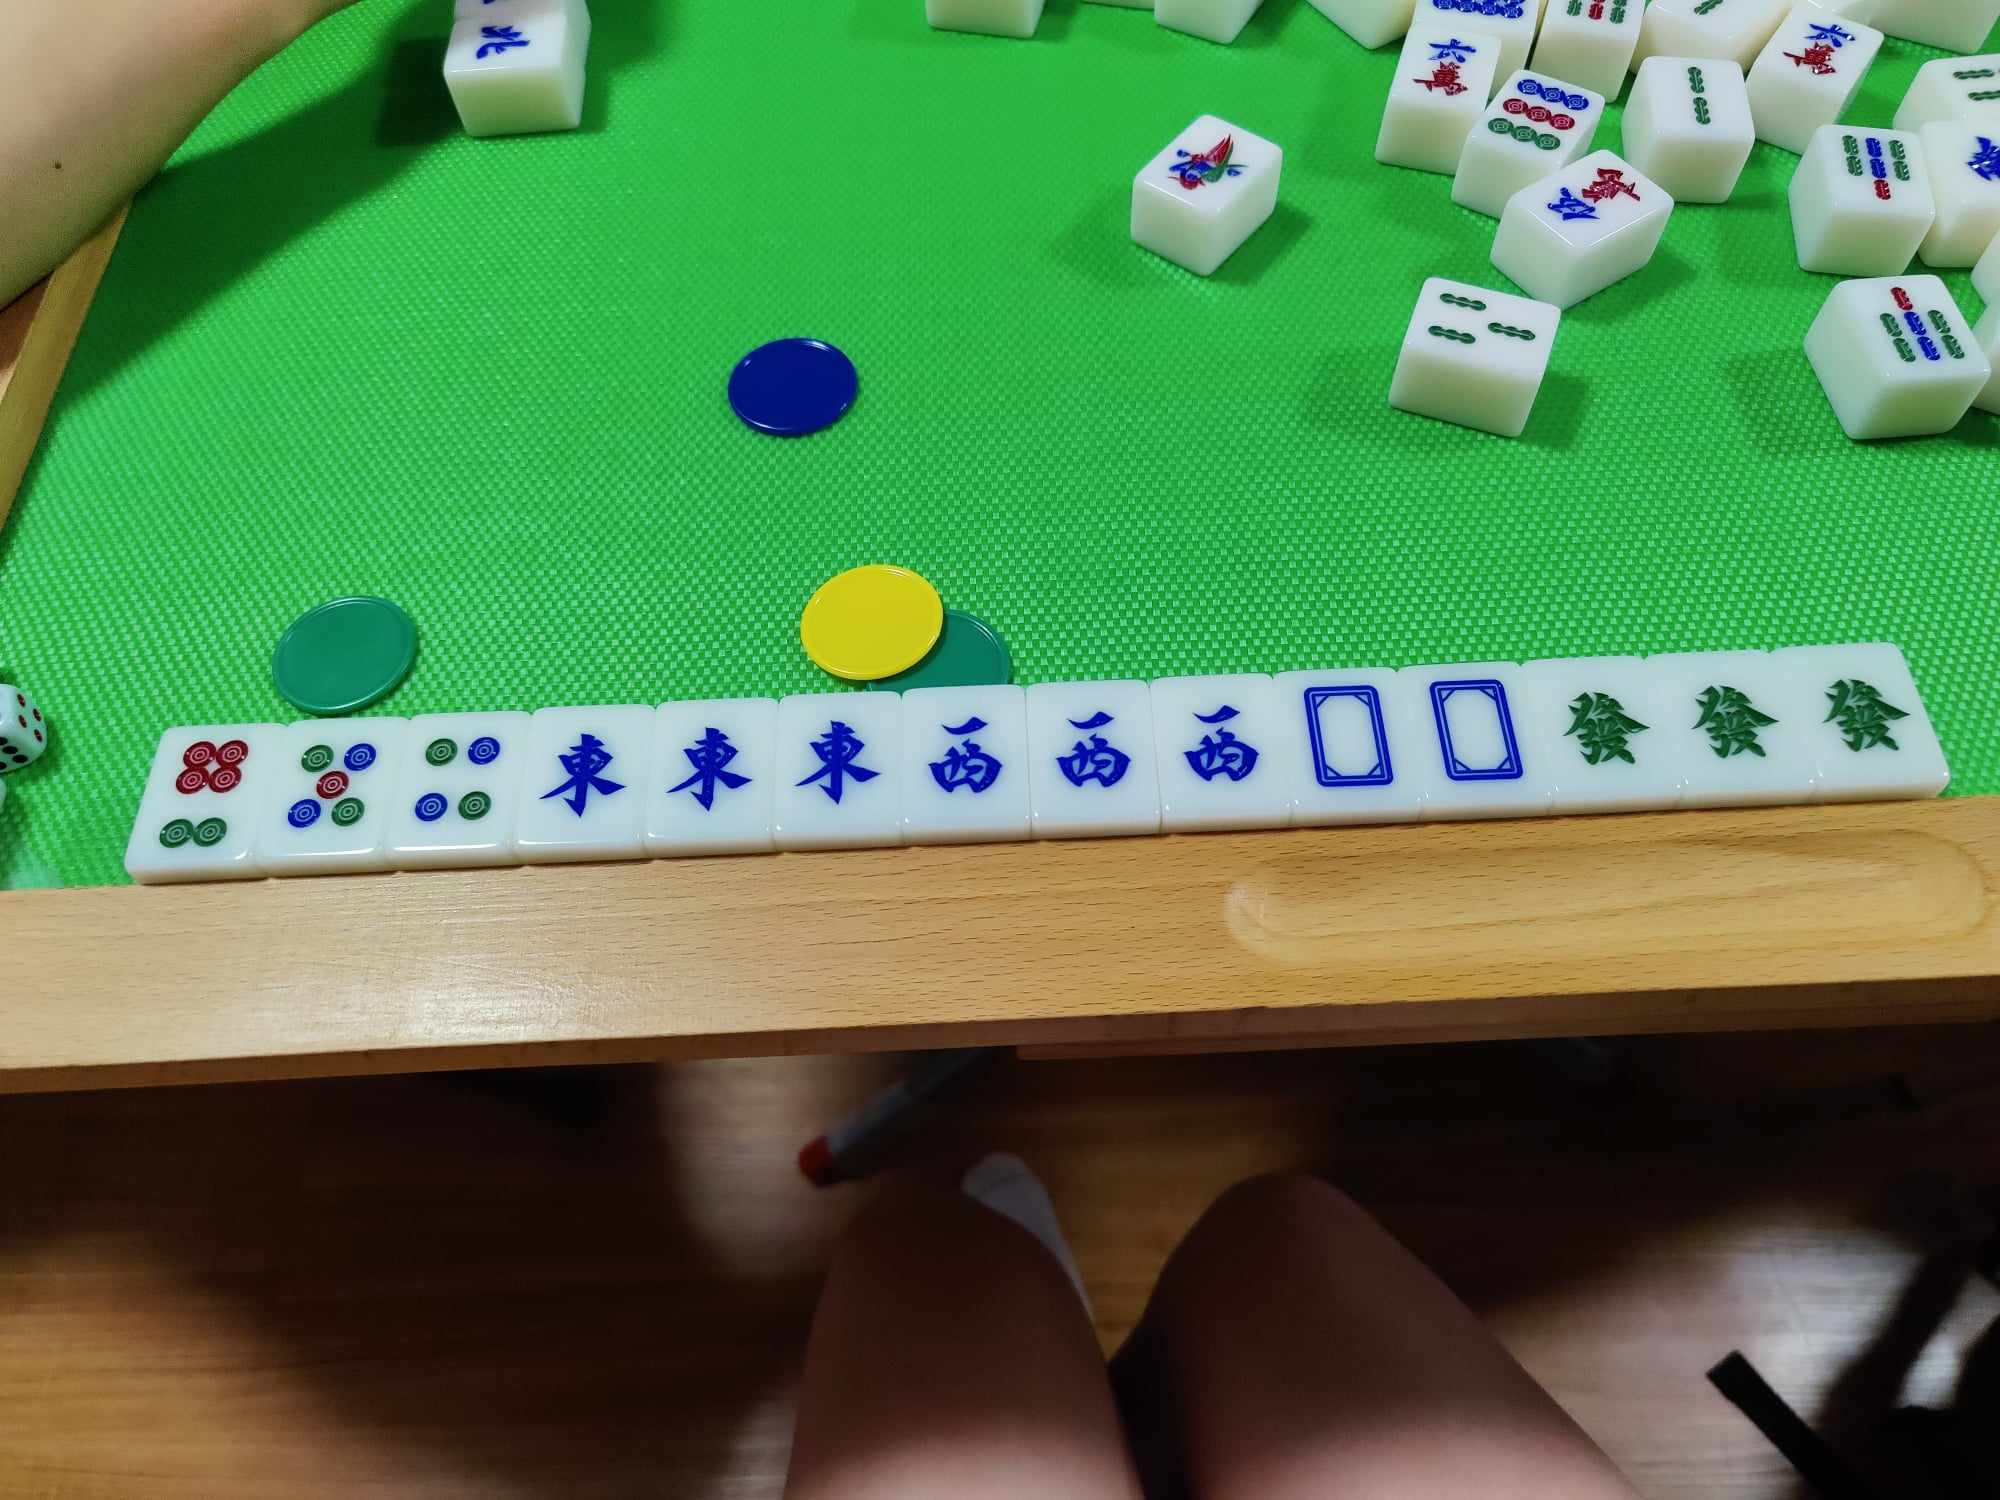circle-five: (280, 734, 376, 840)
circle-four: (405, 733, 502, 838)
circle-six: (159, 734, 247, 851)
honor-blue_dragon: (1414, 674, 1531, 800), (1290, 674, 1398, 797)
honor-east_wind: (531, 714, 638, 848), (654, 714, 754, 835), (787, 711, 883, 826)
honor-green_dragon: (1805, 665, 1921, 767), (1672, 671, 1784, 770), (1553, 671, 1654, 780)
honor-west_wind: (1157, 687, 1274, 797), (917, 703, 1016, 818), (1043, 704, 1139, 808)
